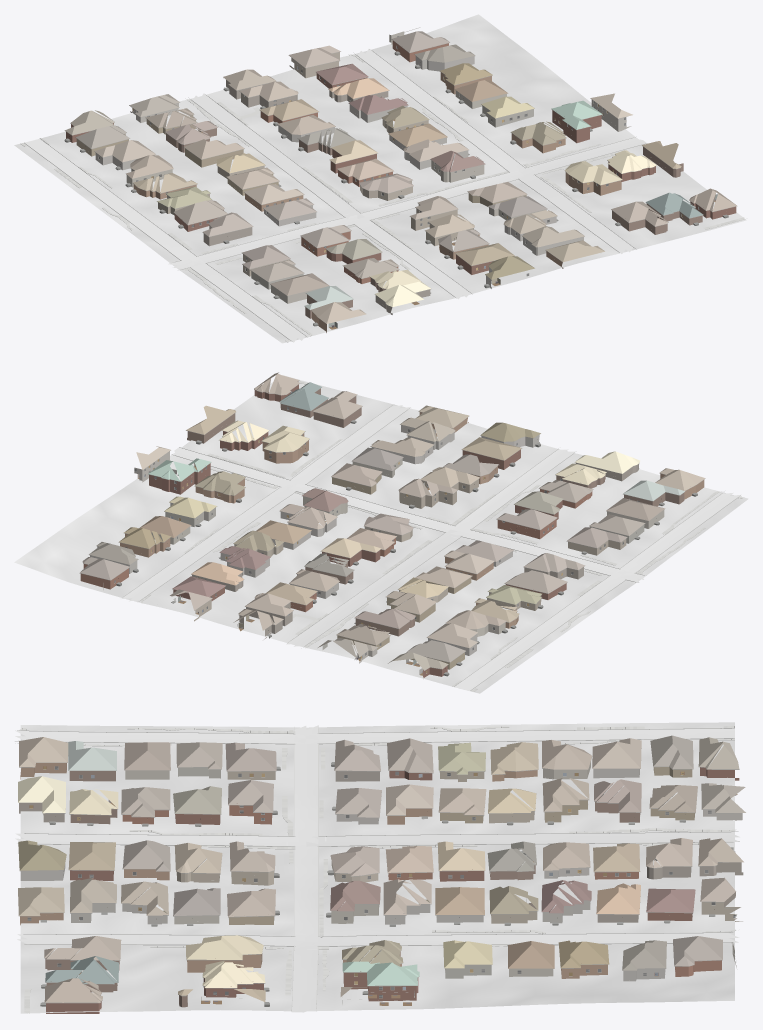
3 renders of one model, top to bottom at view 1: azimuth 30°, elevation 25°; view 2: azimuth 150°, elevation 25°; view 3: azimuth 270°, elevation 25°, orthographic. The views are drawn at different scales.
Visible parts, largest first — view 1: ground, roof, concrete, wall, detail, wall_stucco, walk, curb, wall_stone; view 2: ground, roof, concrete, wall, detail, curb, walk, wall_stucco, wall_stone; view 3: roof, ground, concrete, wall, curb, detail, wall_stucco, walk, wall_stone, glass.
Boxes of the visible parts, x1,y1,x2,y2 form: ground: (14,14,746,343); roof: (65,31,736,323); concrete: (25,49,646,342); wall: (66,40,736,332); detail: (64,27,737,326); wall_stucco: (126,31,631,303); walk: (20,54,744,341); curb: (21,50,744,342); wall_stone: (95,56,583,288); ground: (14,375,748,693); roof: (80,372,705,670); concrete: (121,405,741,690); wall: (80,381,704,677); detail: (79,380,705,676); curb: (122,383,742,691); walk: (141,381,742,691); wall_stucco: (103,451,664,663); wall_stone: (90,425,539,655); roof: (18,735,745,1002); ground: (20,722,734,1013); concrete: (15,725,739,1012); wall: (19,763,743,1013); curb: (15,725,739,1011); detail: (18,741,739,1006); wall_stucco: (125,762,742,995); walk: (19,726,736,1013); wall_stone: (20,769,665,981); glass: (27,766,736,998).
Size of the model in its own units: 256 by 18.2 by 257.
